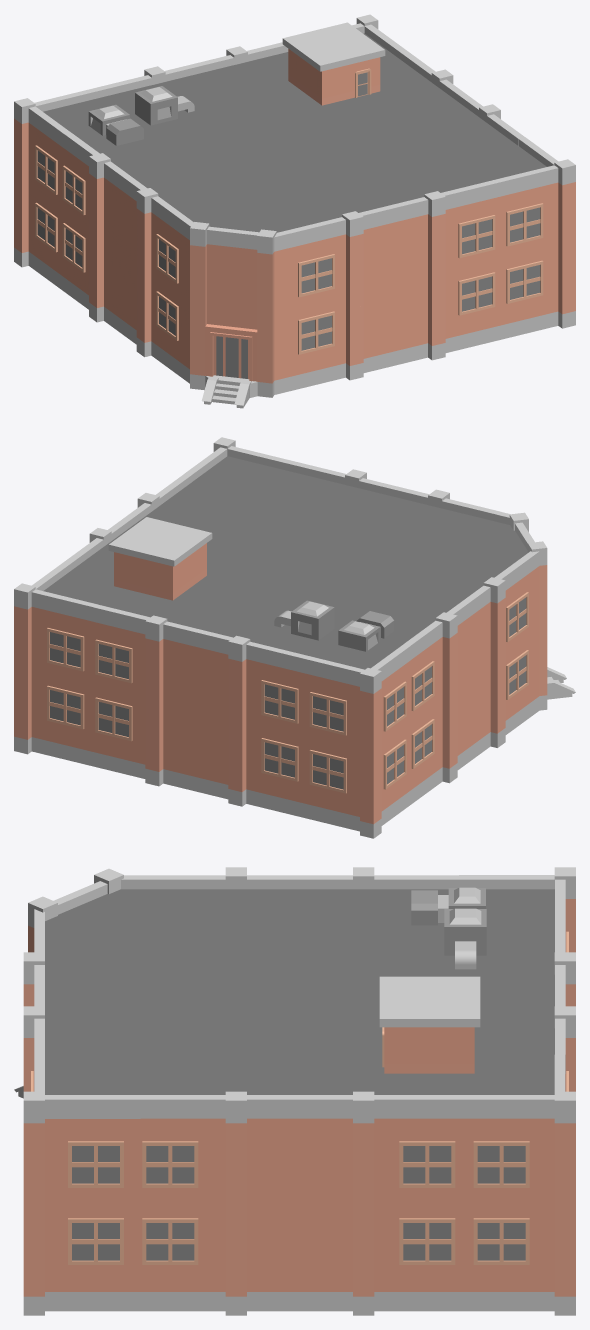
The model's file is redBuilding.fbx.
3 views of the same model, one above another, from view 1: azimuth 30°, elevation 25°; view 2: azimuth 150°, elevation 25°; view 3: azimuth 270°, elevation 25° (orthographic). The views are drawn at different scales.
Visible parts, largest first — view 1: polySurface377; view 2: polySurface377; view 3: polySurface377.
Part boxes in pixels (x1=…): polySurface377: x1=14, y1=14, x2=575, y2=408; polySurface377: x1=14, y1=437, x2=575, y2=838; polySurface377: x1=14, y1=867, x2=575, y2=1315.
Bounding box in the file's own units: 845 × 429 × 845.
